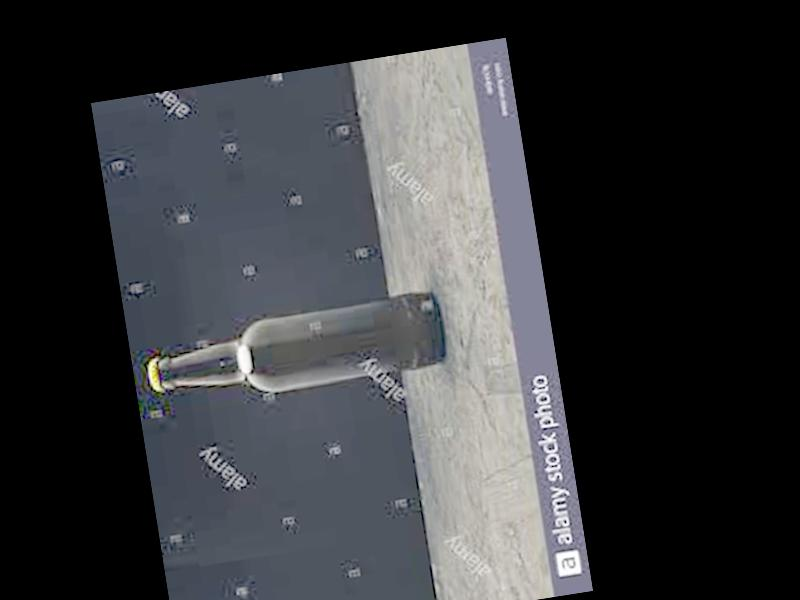Beer: (143, 290, 446, 404)
